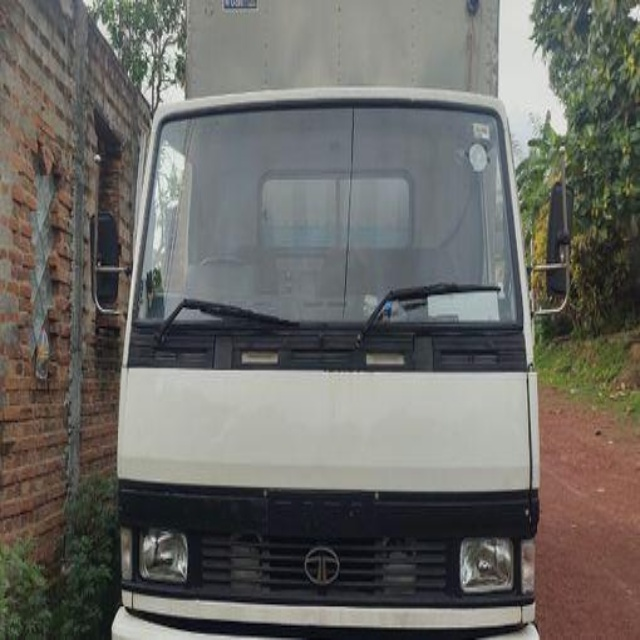Truck: (92, 2, 573, 640)
